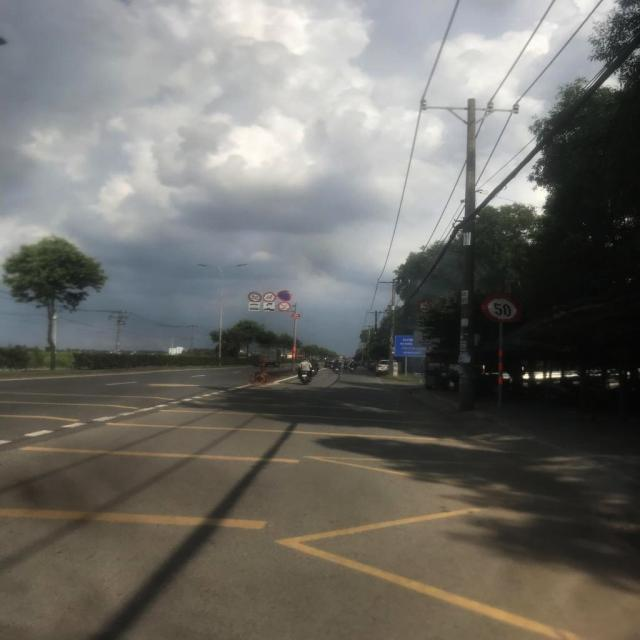107-cam-oto-khach-va-oto-tai: (418, 298, 436, 314)
